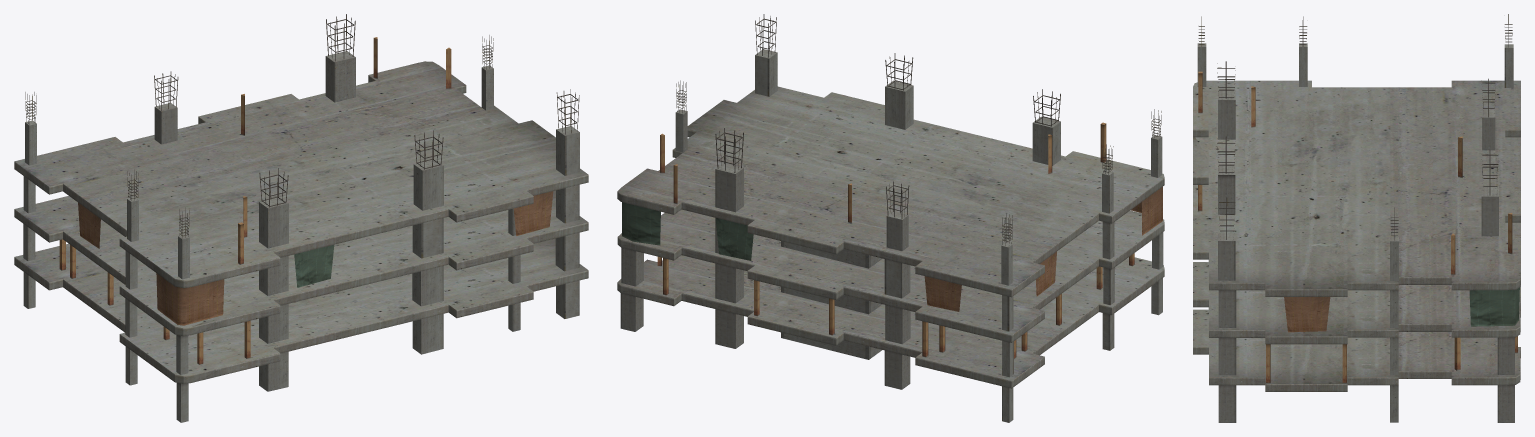
File: small_build.fbx
3 renders of one model, left to right at view 1: azimuth 30°, elevation 25°; view 2: azimuth 150°, elevation 25°; view 3: azimuth 270°, elevation 25°, orthographic. The views are drawn at different scales.
Visible parts, largest first — view 1: Small; view 2: Small; view 3: Small.
Part boxes in pixels (x1,y1,x2,y2): Small: (14, 14, 588, 422); Small: (617, 14, 1164, 422); Small: (1193, 14, 1520, 422).
Bounding box in the file's own units: 1275 × 625 × 847.
